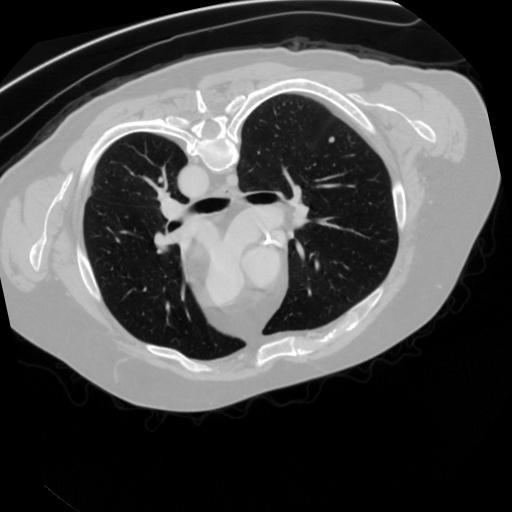nodule: (327, 134, 340, 147)
